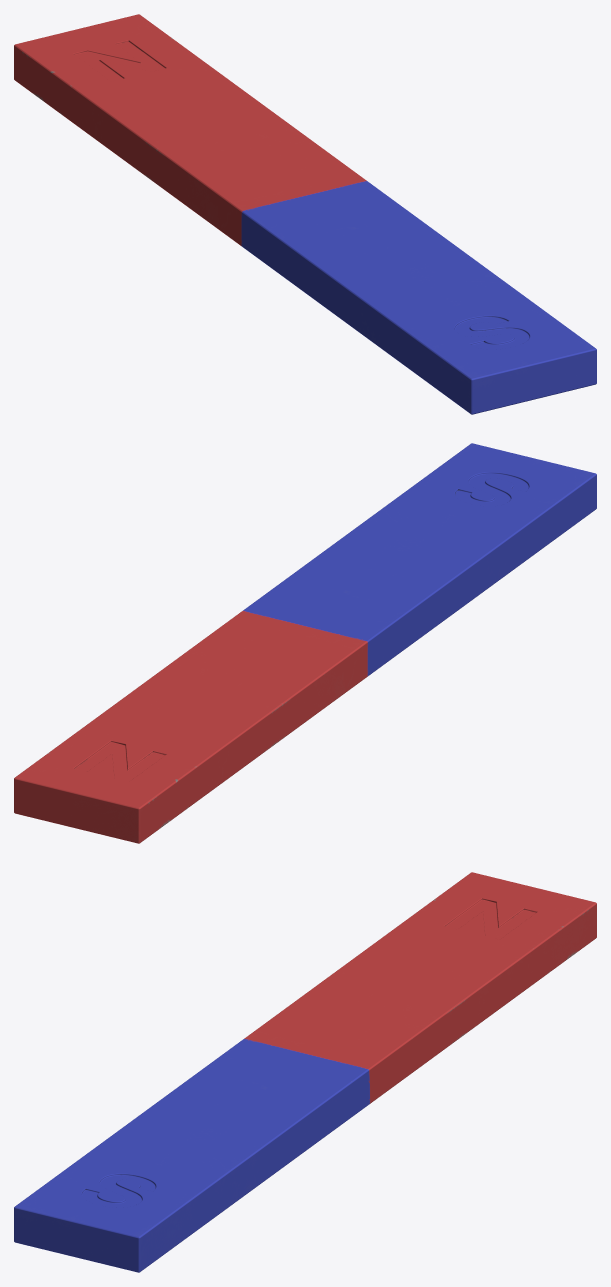
The model's file is magnet.glb.
The picture shows the model from 3 angles, top to bottom: view 1: azimuth 30°, elevation 25°; view 2: azimuth 150°, elevation 25°; view 3: azimuth 330°, elevation 25°; orthographic projection.
Parts seen in each view (by area): view 1: Object_2; view 2: Object_2; view 3: Object_2.
Part boxes in pixels (box(x1,y1,x2,y2)): Object_2: box(14, 14, 596, 414); Object_2: box(14, 443, 596, 843); Object_2: box(14, 872, 596, 1272).
Bounding box in the file's own units: 0.022 × 0.006 × 0.1383.
1 material, 1 textured.
